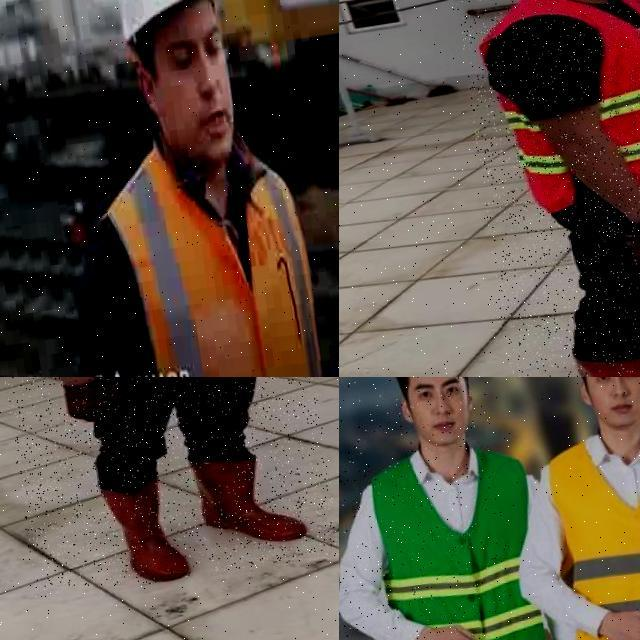boots: (188, 444, 310, 554), (99, 479, 194, 590)
helmet: (105, 0, 228, 47)
vest: (90, 124, 339, 377), (363, 438, 554, 640), (464, 0, 640, 217), (538, 423, 640, 640)
